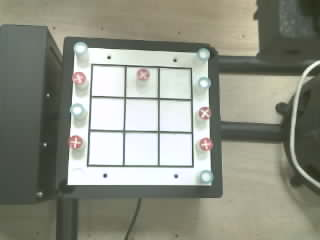blue circle: (70, 103, 84, 117), (73, 42, 87, 55), (200, 170, 213, 183), (198, 48, 210, 60), (198, 77, 211, 88)
board: (67, 47, 213, 185)
cells: (89, 132, 122, 164), (125, 133, 157, 165), (160, 134, 192, 165), (125, 99, 157, 130), (91, 98, 123, 129), (160, 100, 191, 131), (92, 66, 124, 96), (160, 68, 191, 98), (127, 67, 157, 97)
grid: (87, 64, 193, 167)
red cross: (68, 135, 82, 149), (199, 138, 214, 151), (137, 68, 150, 81), (198, 107, 211, 119), (72, 72, 85, 84)
